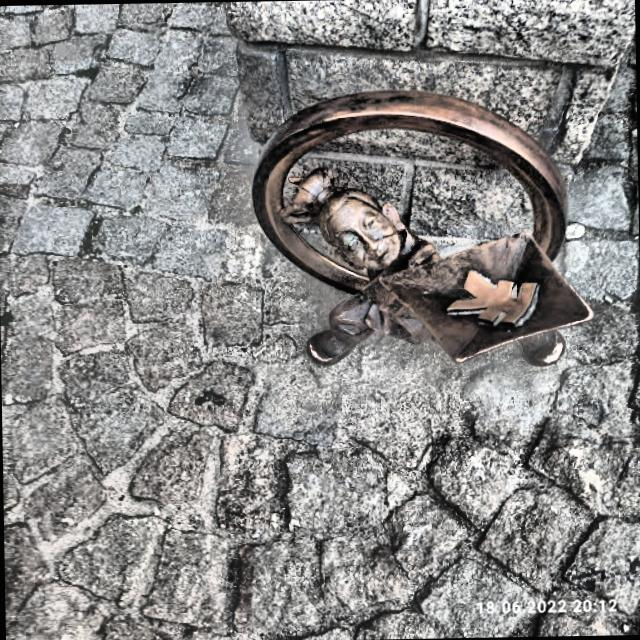TianTian: (251, 91, 591, 364)
